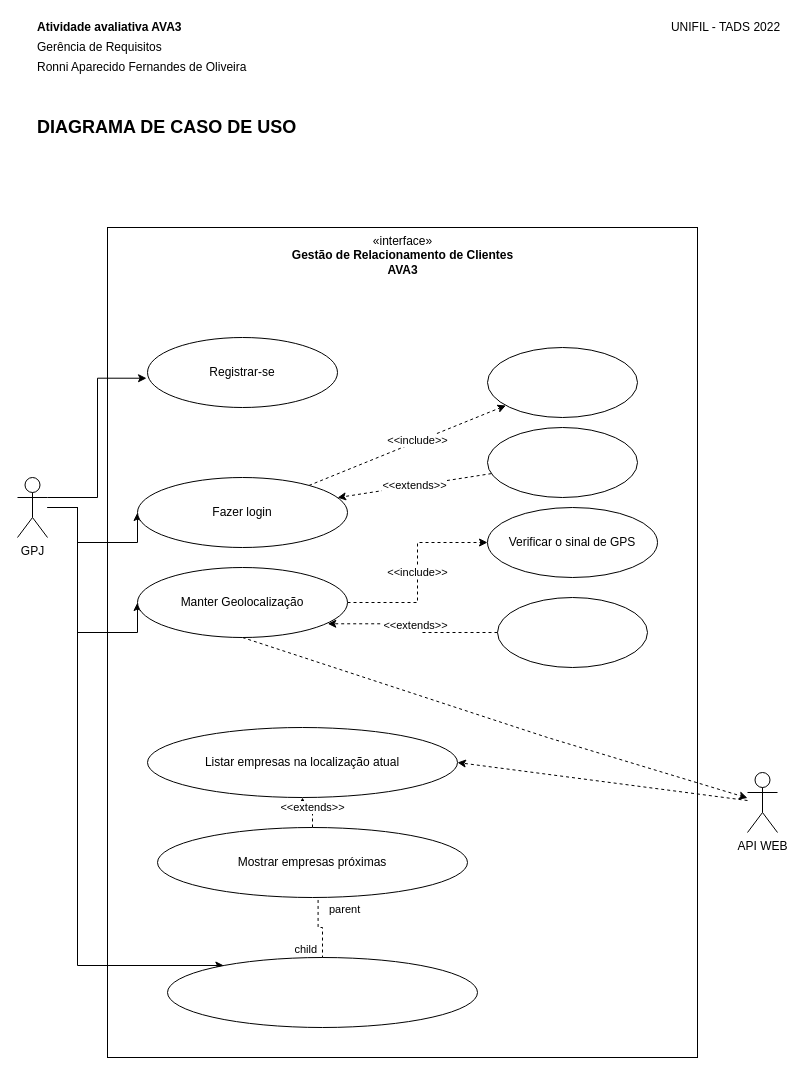
This 805x1075 diagram has some shape labels left out. Each missing label, with the centre of its shape:
Controlar agenda de visitas: (x=322, y=992)
Exibir Erro de Login: (x=562, y=462)
Exibir erro GPS: (x=572, y=632)
Verificar Senha: (x=562, y=382)
